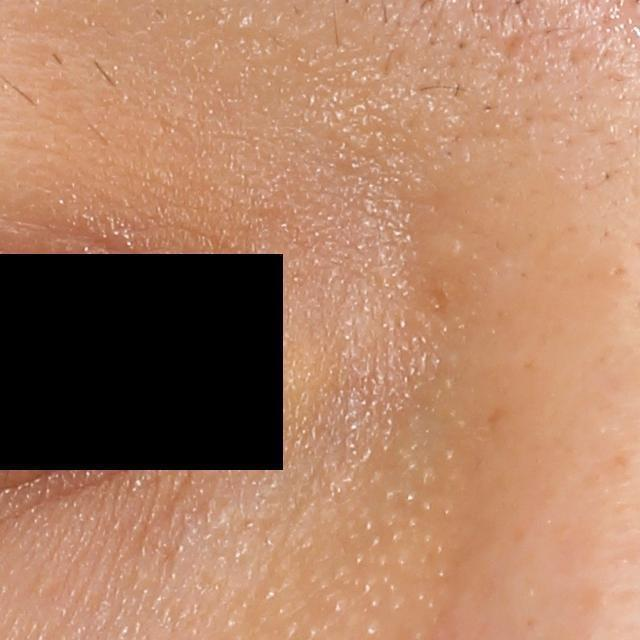atrophic_scar: (498, 33, 526, 66)
